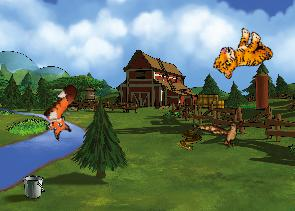eagle: (195, 106, 252, 157)
fox: (34, 81, 94, 143)
tiger: (209, 21, 277, 91)
